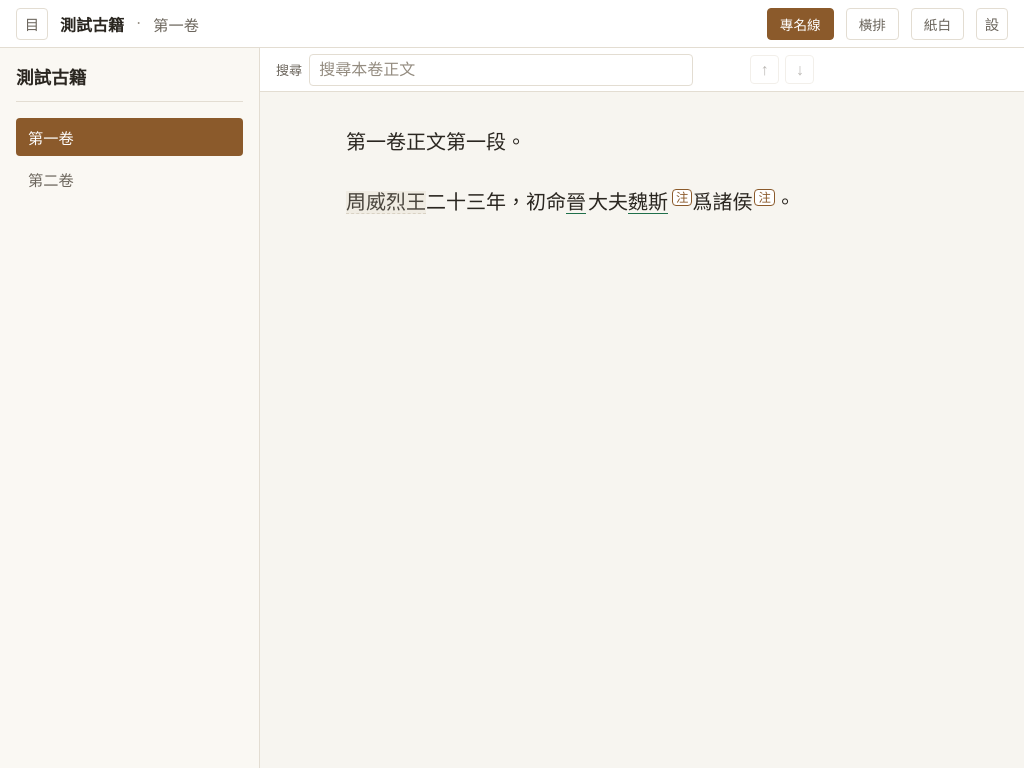
Test case: 古注 popover › closes when the writing mode changes
This screenshot has width=1024, height=768.
Expected: the text "第一卷正文第一段。" is shown, top-left (346, 131), bottom-right (526, 153)
Click the button "周威烈王" at (386, 203), box top-left (346, 191), bottom-right (426, 214)
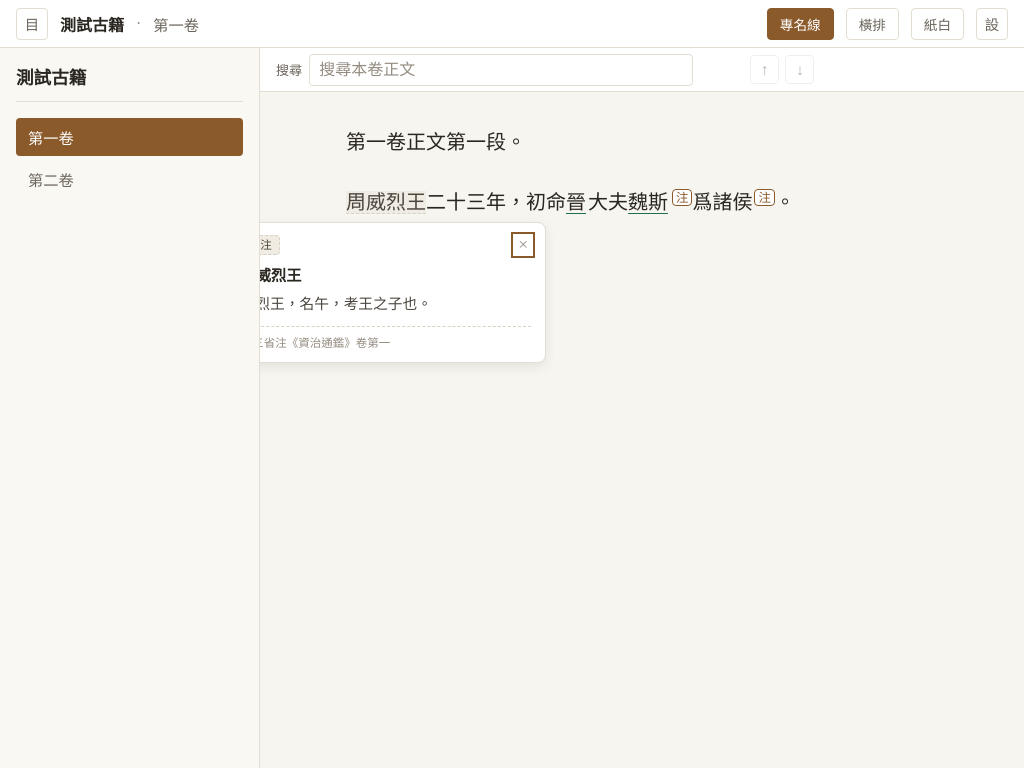
Expected: the dialog "古注" is shown, top-left (260, 222), bottom-right (546, 363)
Click the button with aria-label "切換橫豎排" at (872, 24), box top-left (846, 8), bottom-right (899, 40)
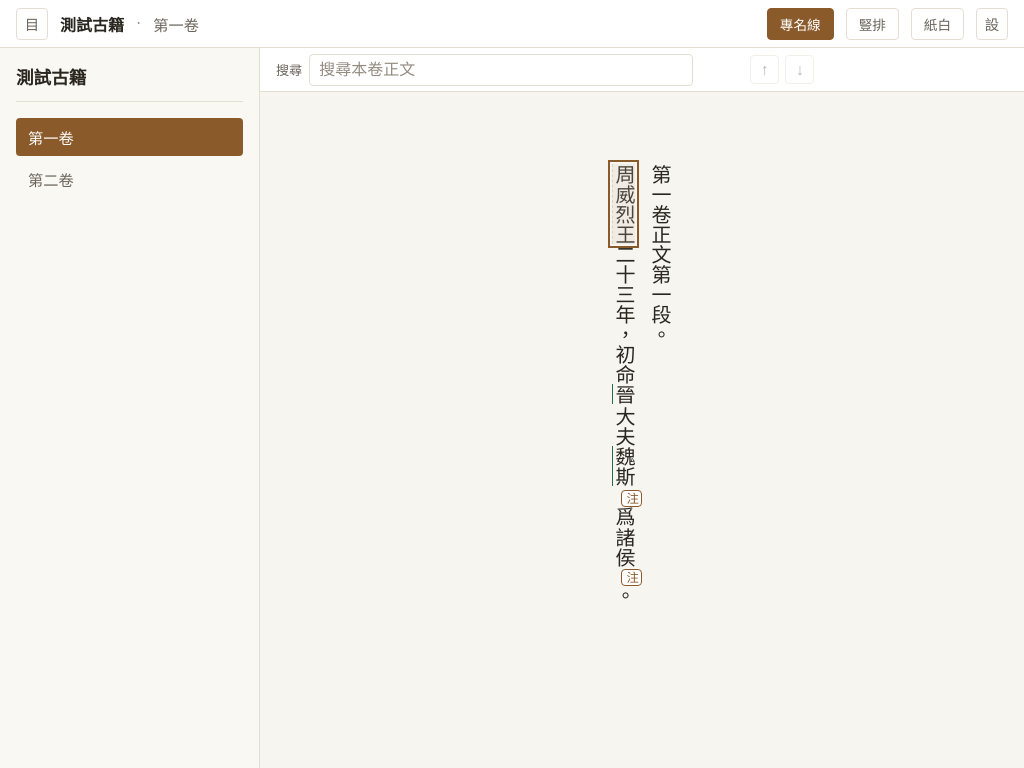
Expected: the text "古注" is gone
